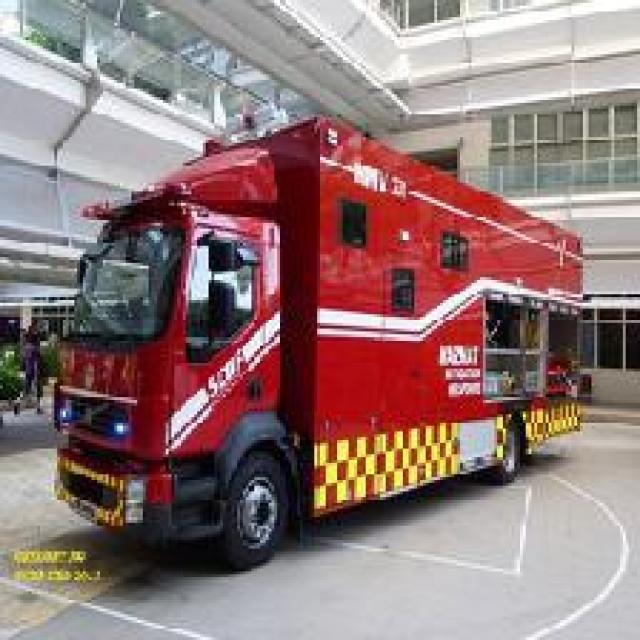emergency: (45, 103, 591, 569)
